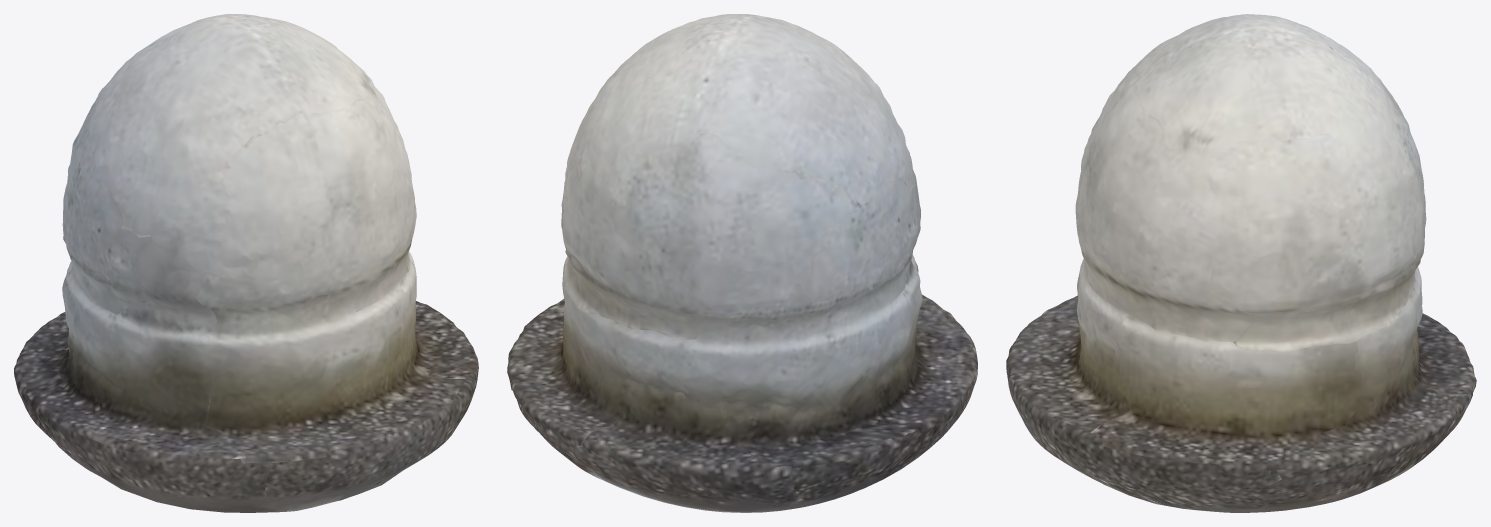
Rendered from barriere.glb.
The picture shows the model from 3 angles, left to right: view 1: azimuth 30°, elevation 25°; view 2: azimuth 150°, elevation 25°; view 3: azimuth 270°, elevation 25°; orthographic projection.
Visible parts, largest first — view 1: Object_2; view 2: Object_2; view 3: Object_2.
Part boxes in pixels (<box>): Object_2: <box>14,14,478,512</box>; Object_2: <box>507,14,977,512</box>; Object_2: <box>1006,14,1476,512</box>.
Size of the model in its own units: 4.44 by 4.53 by 4.49.
Materials: 1 (1 with a texture image).
